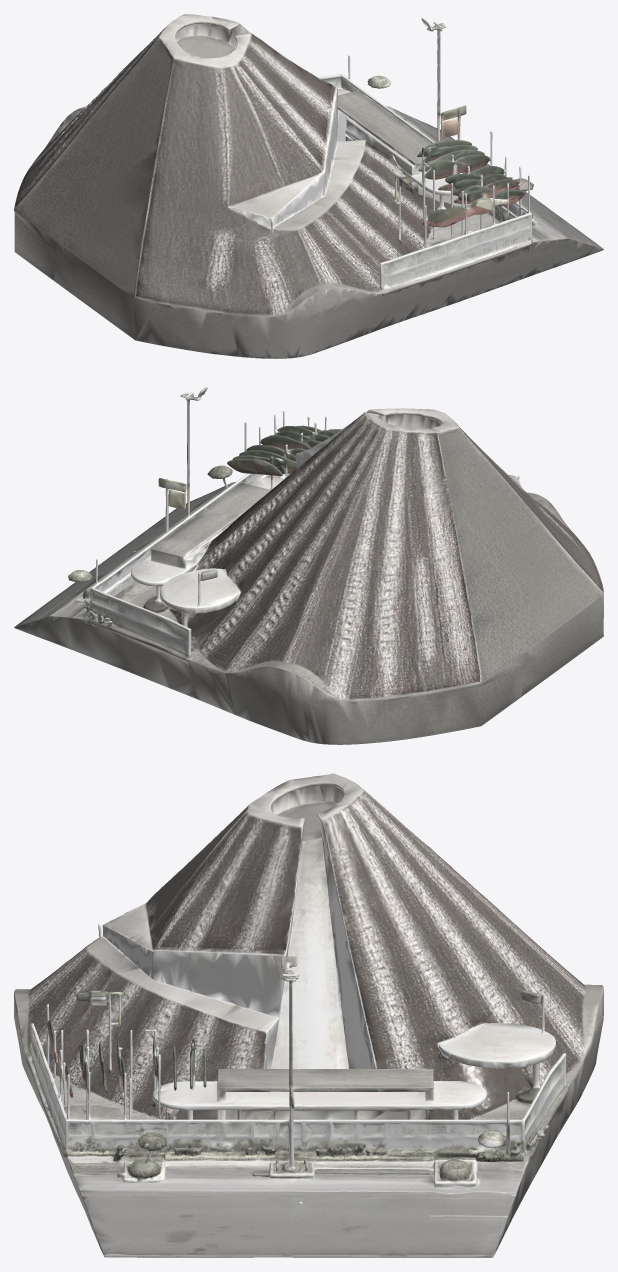
Rendered from dome.glb.
3 renders of one model, top to bottom at view 1: azimuth 30°, elevation 25°; view 2: azimuth 150°, elevation 25°; view 3: azimuth 270°, elevation 25°, orthographic. The views are drawn at different scales.
Visible parts, largest first — view 1: tripo_node_48544eb5-2252-4ccc-8b15-e650ea381ff9; view 2: tripo_node_48544eb5-2252-4ccc-8b15-e650ea381ff9; view 3: tripo_node_48544eb5-2252-4ccc-8b15-e650ea381ff9.
Boxes of the visible parts, x1=… form: tripo_node_48544eb5-2252-4ccc-8b15-e650ea381ff9: x1=14, y1=14, x2=603, y2=358; tripo_node_48544eb5-2252-4ccc-8b15-e650ea381ff9: x1=14, y1=387, x2=603, y2=744; tripo_node_48544eb5-2252-4ccc-8b15-e650ea381ff9: x1=14, y1=773, x2=603, y2=1257.
Size of the model in its own units: 0.9999 by 0.5016 by 0.9492.
1 material, 1 textured.
